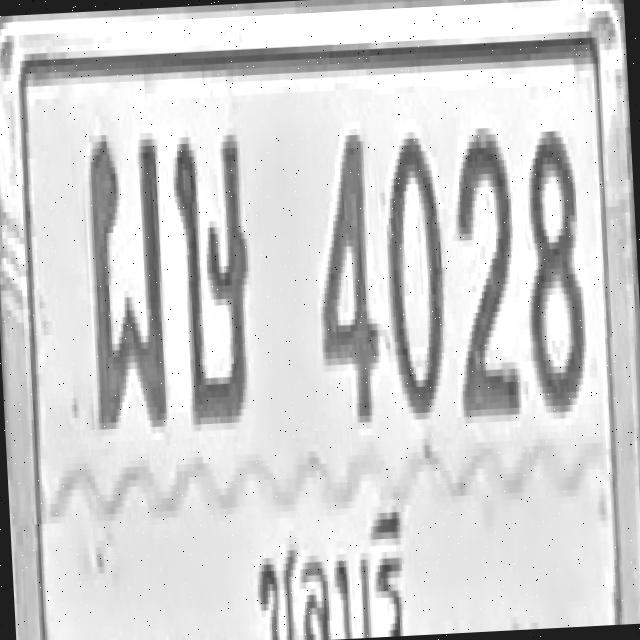0: (379, 128, 449, 418)
2: (448, 124, 520, 414)
37PhorPhueng: (82, 126, 170, 430)
4: (311, 125, 382, 422)
48SorRueSi: (171, 125, 256, 422)
8: (519, 120, 589, 410)
Chonburi: (243, 492, 417, 640)
